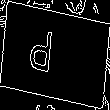P_S: (42, 27, 68, 83)
